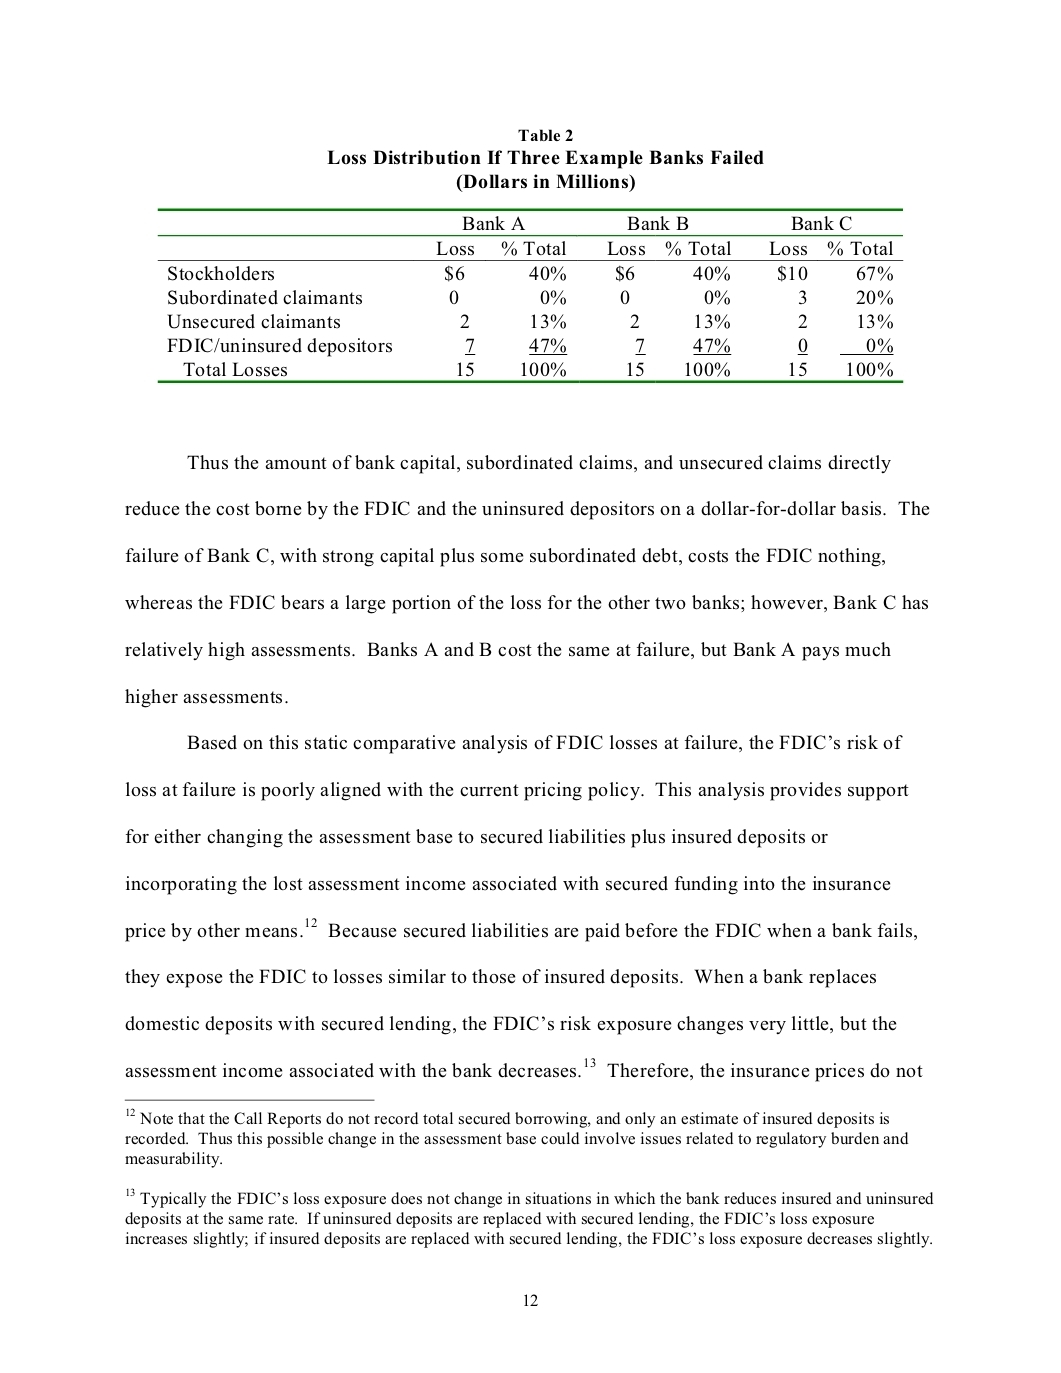Table: (157, 208, 903, 383)
